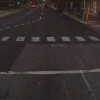crosswalk: (0, 35, 99, 42)
